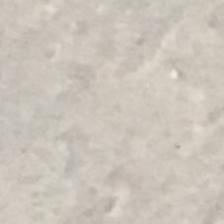Non_Crack: (16, 3, 224, 223)
